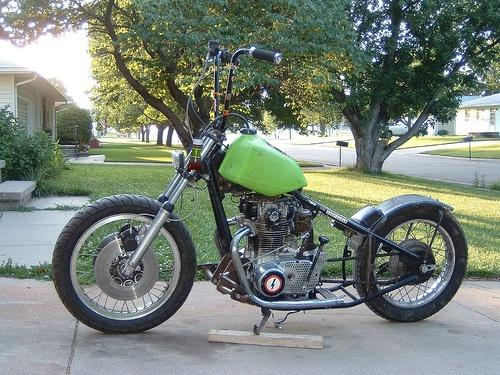tampered: (188, 139, 203, 201)
